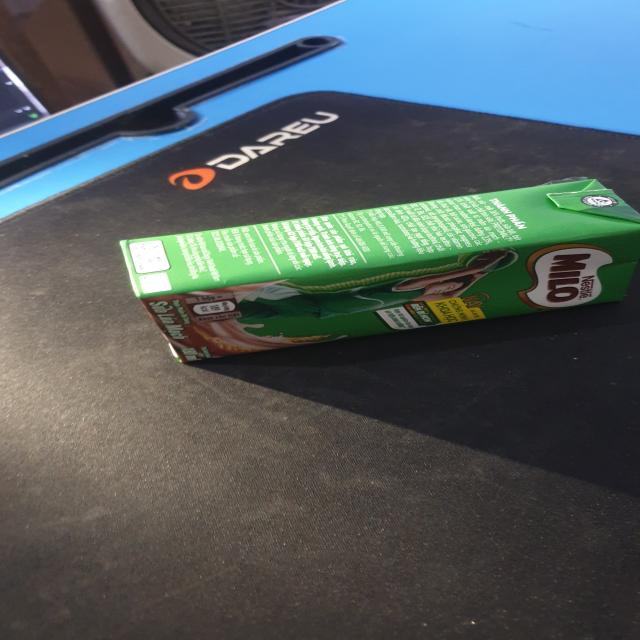Milo: (125, 172, 640, 368)
